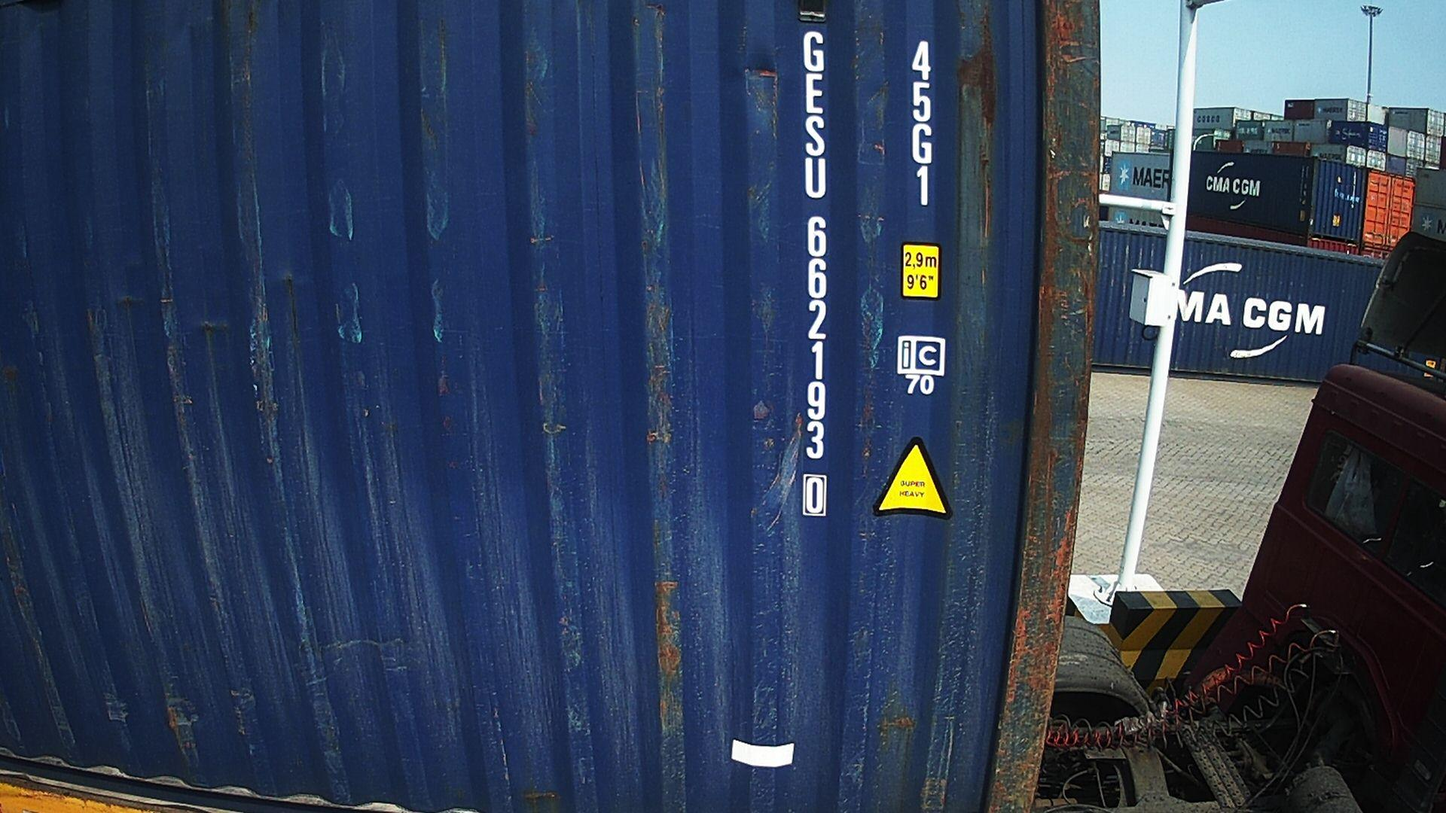container-numbers: (796, 28, 835, 522), (905, 35, 939, 213)
